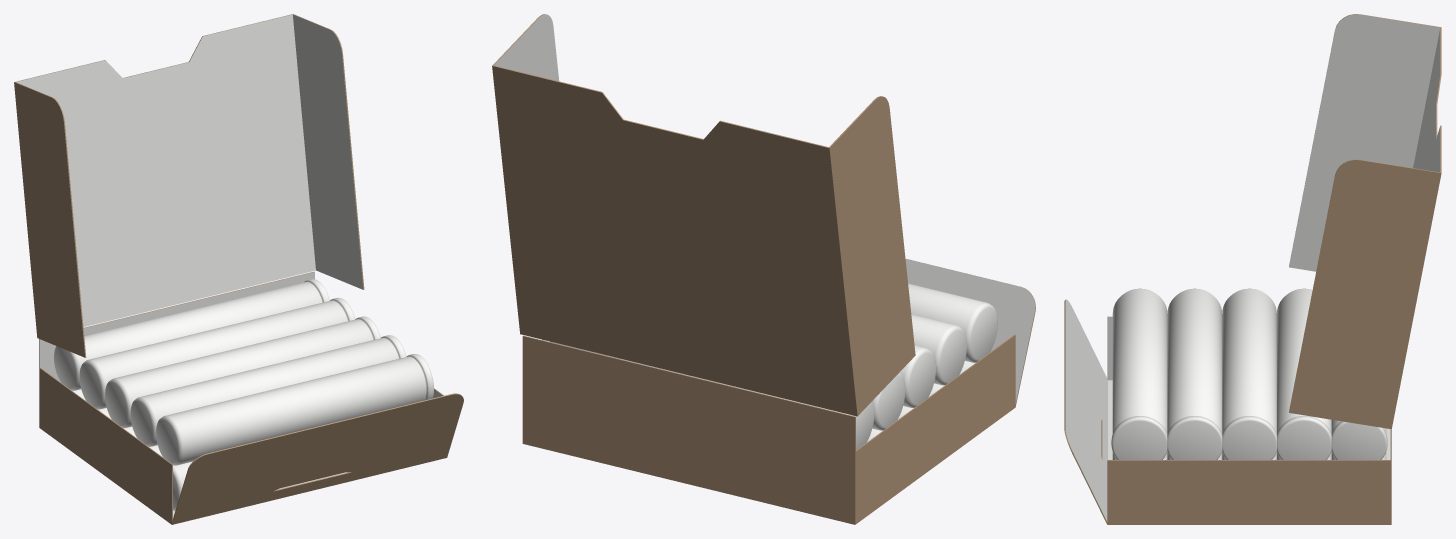
File: preroll-slims-gift-open.glb
3 renders of one model, left to right at view 1: azimuth 30°, elevation 25°; view 2: azimuth 150°, elevation 25°; view 3: azimuth 270°, elevation 25°, orthographic. The views are drawn at different scales.
Parts seen in each view (by area): view 1: sgift_lid, sgift_front, t10_body, sgift_ear-1, sgift_ear1, sgift_side-1, t12_body, t11_body, t13_body, t14_body, sgift_back; view 2: sgift_lid, sgift_back, sgift_ear-1, sgift_side-1, sgift_front, t10_body, sgift_ear1, t11_body, t12_body, t13_body, t14_body; view 3: sgift_ear1, sgift_ear-1, sgift_side1, t10_body, t11_body, t12_body, sgift_front, t13_body, sgift_lid, t10_lid, t11_lid, t12_lid (+3 smaller).
Boxes of the visible parts, x1,y1,x2,y2 form: sgift_lid: [14, 14, 315, 336]; sgift_front: [171, 393, 463, 524]; t10_body: [156, 356, 426, 465]; sgift_ear-1: [14, 82, 86, 357]; sgift_ear1: [292, 14, 364, 289]; sgift_side-1: [39, 368, 172, 524]; t12_body: [105, 319, 373, 428]; t11_body: [130, 338, 399, 446]; t13_body: [79, 300, 347, 409]; t14_body: [54, 281, 322, 390]; sgift_back: [39, 271, 314, 427]; sgift_lid: [492, 65, 858, 415]; sgift_back: [522, 335, 855, 524]; sgift_ear-1: [828, 96, 915, 416]; sgift_side-1: [854, 334, 1015, 523]; sgift_front: [905, 259, 1035, 407]; t10_body: [908, 283, 997, 362]; sgift_ear1: [492, 14, 559, 330]; t11_body: [911, 314, 966, 385]; t12_body: [899, 345, 936, 407]; t13_body: [872, 373, 905, 430]; t14_body: [551, 342, 874, 450]; sgift_ear1: [1289, 159, 1441, 429]; sgift_ear-1: [1289, 14, 1441, 271]; sgift_side1: [1107, 460, 1391, 524]; t10_body: [1112, 288, 1167, 433]; t11_body: [1167, 288, 1222, 433]; t12_body: [1222, 288, 1276, 433]; sgift_front: [1064, 299, 1107, 524]; t13_body: [1277, 288, 1331, 433]; sgift_lid: [1391, 27, 1441, 428]; t10_lid: [1111, 416, 1167, 459]; t11_lid: [1167, 416, 1222, 459]; t12_lid: [1222, 416, 1276, 459].
Size of the model in its own units: 0.1263 by 0.1476 by 0.1379.
